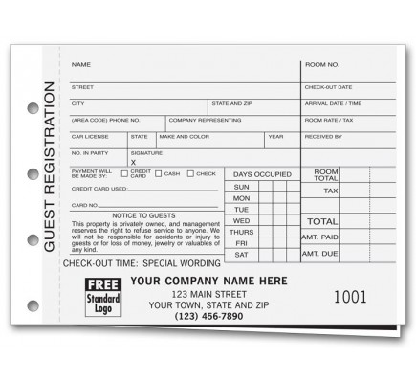checkbox: (185, 167, 196, 178), (154, 168, 164, 178), (120, 167, 128, 177)
textbox: (66, 78, 306, 103), (124, 144, 303, 170), (66, 95, 211, 120), (163, 113, 304, 137), (297, 57, 400, 86), (151, 128, 267, 153), (66, 111, 170, 138), (296, 144, 402, 170), (297, 77, 400, 103), (297, 94, 399, 119), (203, 95, 304, 120), (297, 127, 399, 151), (297, 111, 398, 135), (65, 145, 132, 170), (66, 128, 132, 152), (262, 128, 303, 152), (123, 126, 160, 152), (338, 225, 376, 249), (365, 240, 400, 266), (336, 240, 372, 265), (338, 164, 374, 186), (366, 162, 399, 186), (337, 179, 373, 201), (337, 209, 374, 230), (338, 194, 373, 216), (364, 195, 399, 217), (365, 208, 399, 230), (364, 225, 398, 247), (366, 179, 399, 200), (283, 244, 306, 266), (268, 177, 291, 197), (269, 244, 290, 265), (255, 244, 275, 266), (267, 198, 289, 217), (269, 231, 289, 251), (270, 186, 289, 207), (282, 210, 303, 229), (254, 199, 276, 217), (269, 222, 291, 240), (283, 221, 305, 239), (282, 188, 303, 206), (270, 210, 289, 229), (255, 188, 275, 206), (284, 198, 304, 216), (284, 177, 303, 195), (256, 211, 275, 229), (256, 233, 275, 251), (284, 232, 302, 251), (255, 177, 275, 194), (257, 223, 275, 239)
textline: (66, 67, 300, 89), (99, 198, 220, 209), (125, 181, 218, 194)
